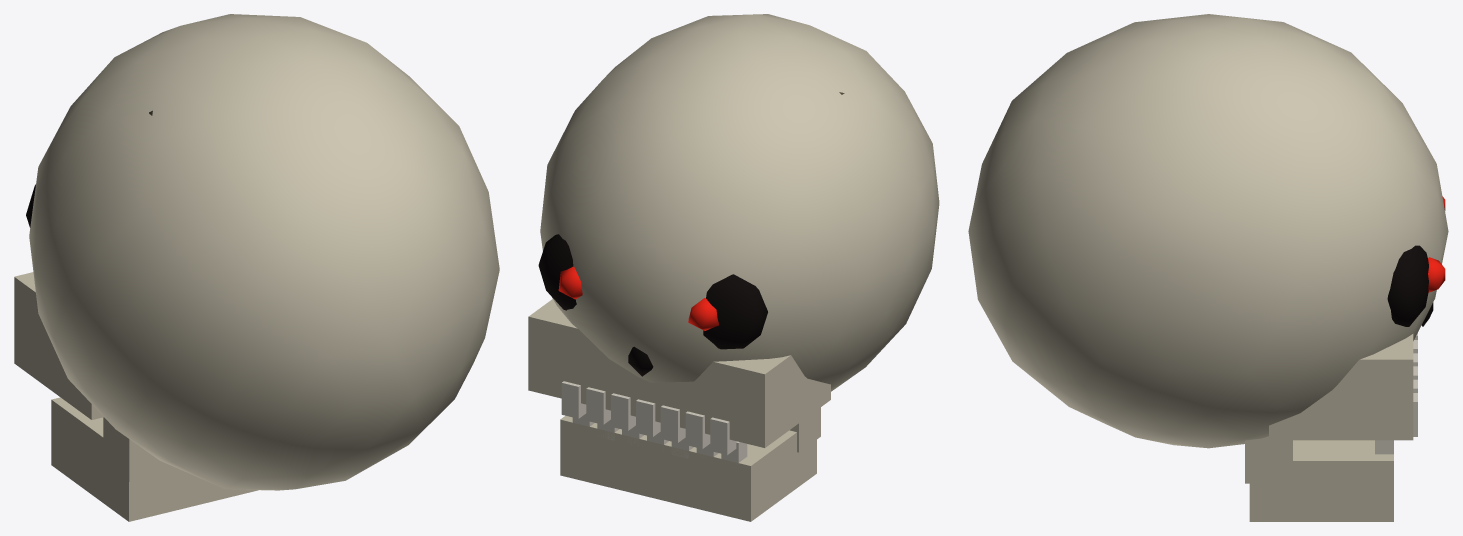
File: dungeon_guardian.glb
The picture shows the model from 3 angles, left to right: view 1: azimuth 30°, elevation 25°; view 2: azimuth 150°, elevation 25°; view 3: azimuth 270°, elevation 25°; orthographic projection. The views are drawn at different scales.
Parts seen in each view (by area): view 1: crypt_guardian; view 2: crypt_guardian; view 3: crypt_guardian.
Boxes of the visible parts, x1,y1,x2,y2 form: crypt_guardian: (14, 14, 499, 521); crypt_guardian: (528, 14, 939, 521); crypt_guardian: (968, 14, 1448, 521).
Size of the model in its own units: 2.29 by 2.62 by 2.59.
